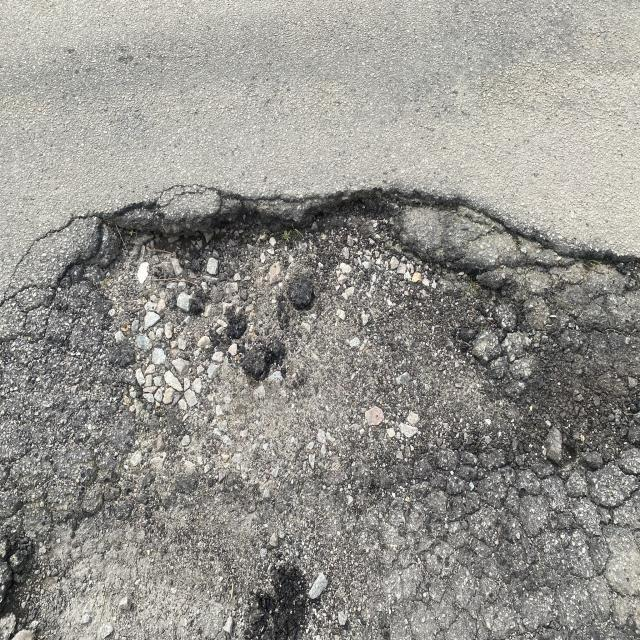Pothole: (30, 163, 640, 397)
